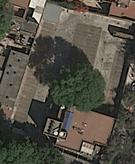parkingspot: (12, 19, 58, 130), (103, 49, 132, 109), (67, 22, 90, 65), (80, 25, 103, 67)
